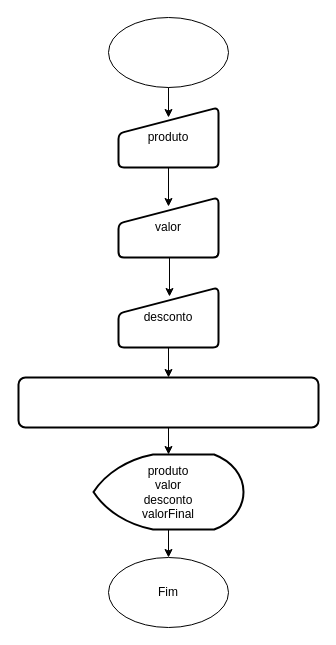
The diagram is 336 pixels wide and 645 high, and some of its shapes have lost their labels. Here are the shapes that lost their labels. From the top down, the centre of each, then its label:
At (x=168, y=52): "Inicio".
At (x=168, y=402): "valorFinal = valor - valor*desconto/100".
